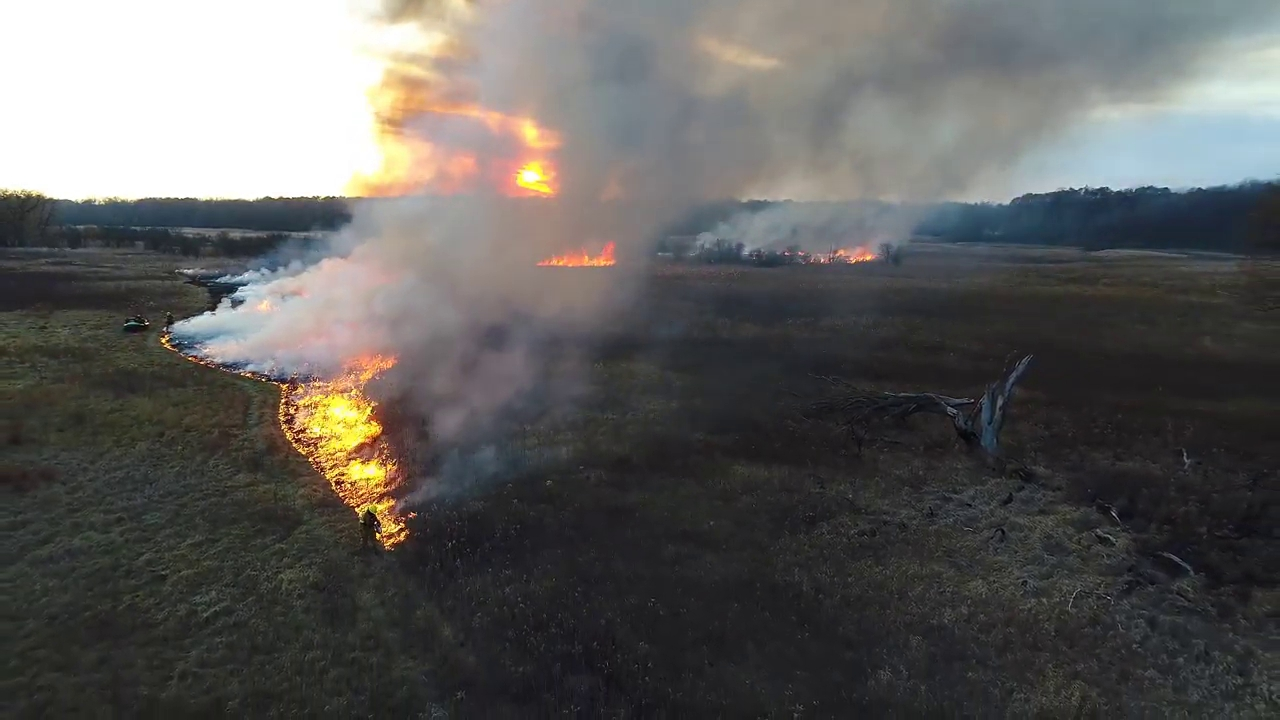forest_fire: (160, 334, 409, 546), (537, 240, 614, 265), (805, 247, 878, 263)
